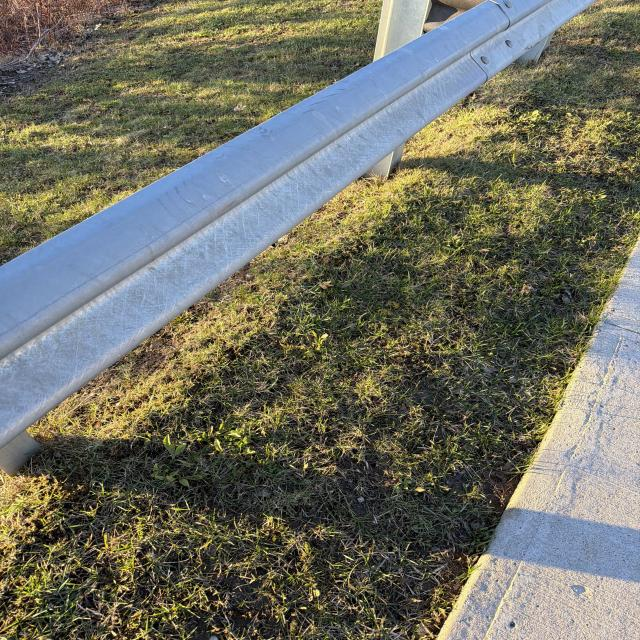Guard rail: (24, 20, 594, 426)
